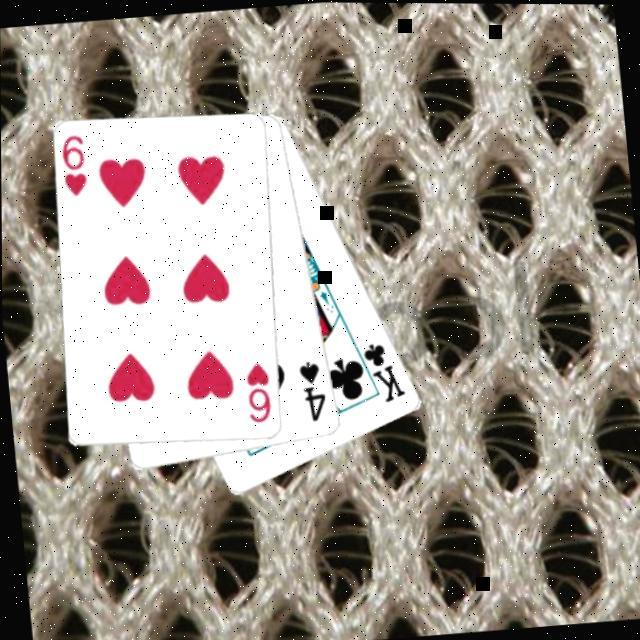4S: (292, 355, 328, 423)
6H: (54, 129, 89, 198), (239, 356, 274, 424)
KC: (346, 334, 406, 404)
